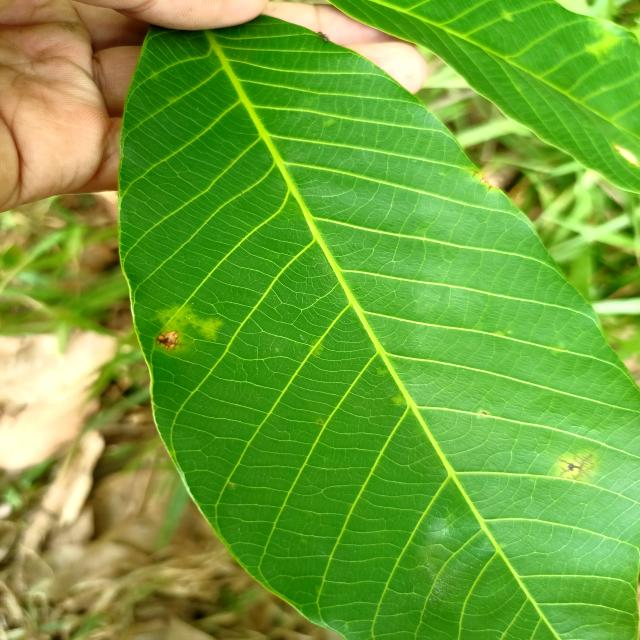Corynespora: (557, 454, 597, 482), (156, 331, 188, 352)
